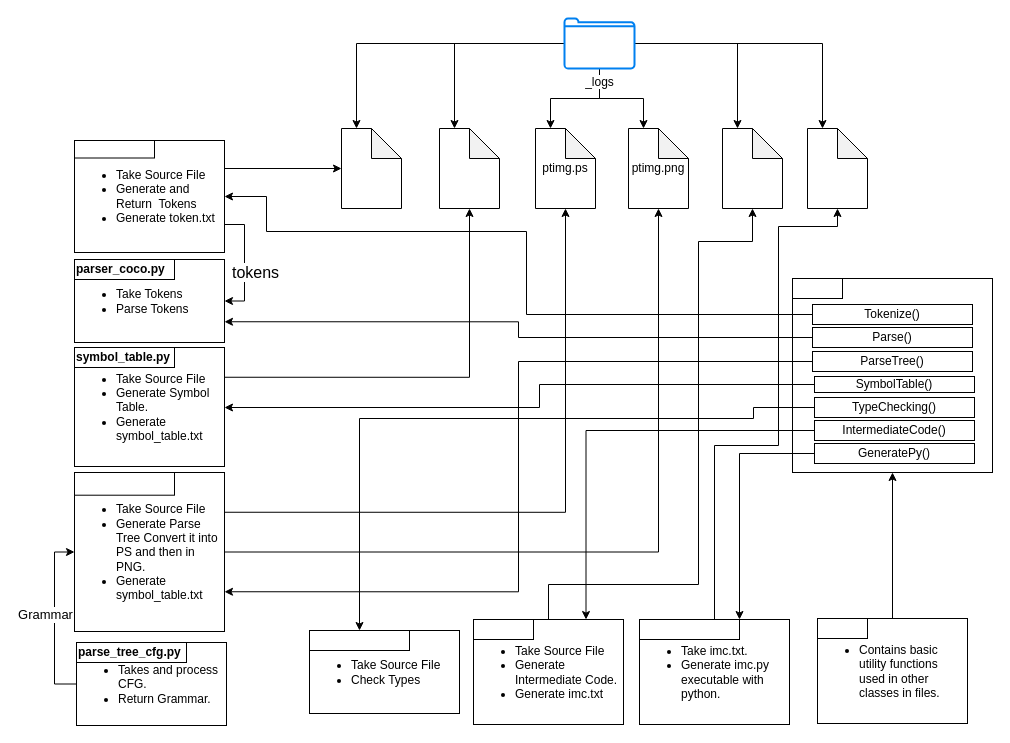
This 1010x743 diagram has some shape labels left out. Here are the shapes that lost their labels. From the top down, the centre of each, then its label:
At pixel 114 149: "tokenizer.py".
At pixel 371 168: "token.txt".
At pixel 469 168: "symbol_ table.txt".
At pixel 752 168: "imc.txt".
At pixel 837 168: "imc.py".
At pixel 817 288: "coco.py".
At pixel 124 483: "parse_tree.py".
At pixel 359 640: "type_check.py".
At pixel 503 629: "imcg.py".
At pixel 689 629: "generate_py.py".
At pixel 842 628: "util.py".
